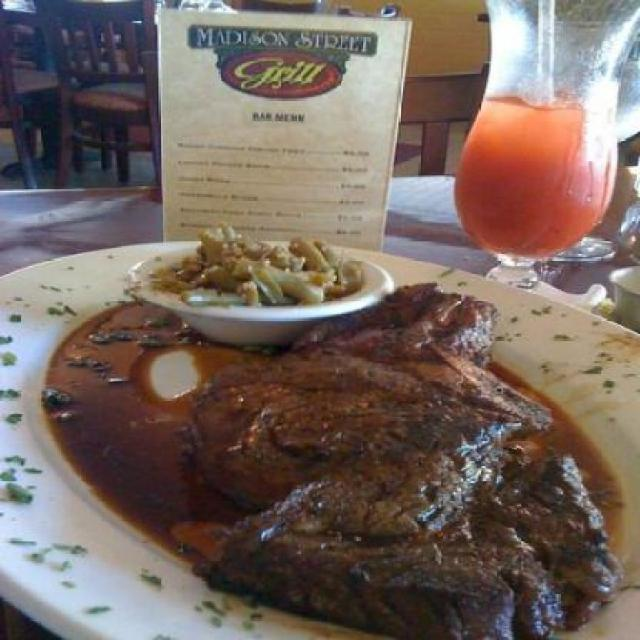Steak: (99, 272, 622, 638)
